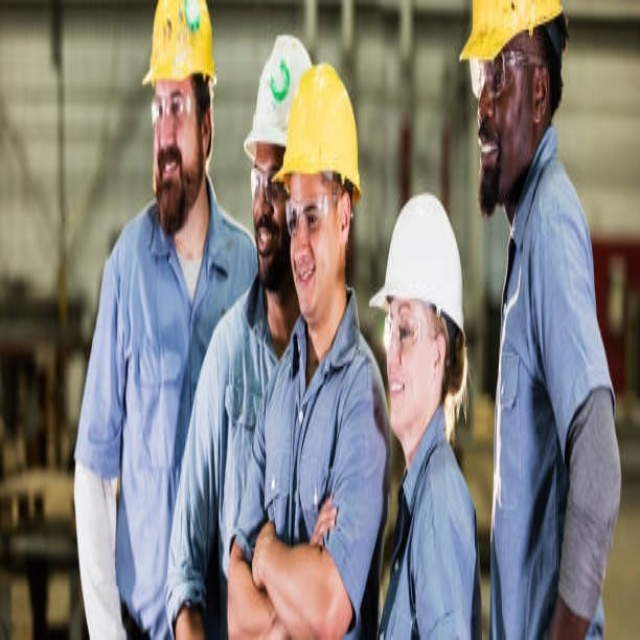Gafas: (382, 301, 438, 358), (466, 49, 540, 92), (284, 184, 342, 236), (147, 87, 200, 130), (250, 160, 281, 206)
Sin_mascara: (475, 119, 502, 187), (154, 149, 181, 198), (293, 249, 317, 298), (385, 366, 407, 418), (256, 212, 274, 266)
